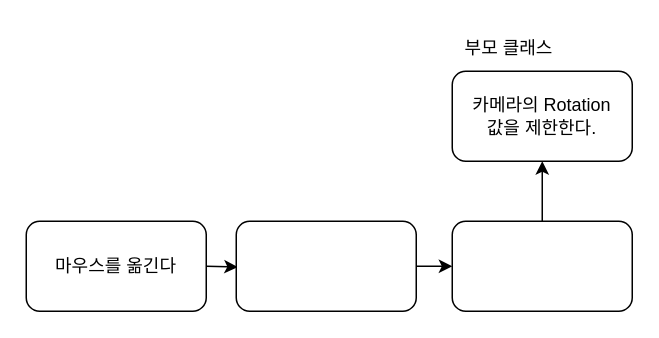
Image size: 659x338. Some labels were removed from this diagram. Each missing label, with the centre of its shape:
"결과 값 만큼 카메라를 돌린다" goes at [541,265].
"마우스 감도와 합친다" goes at [325,265].
